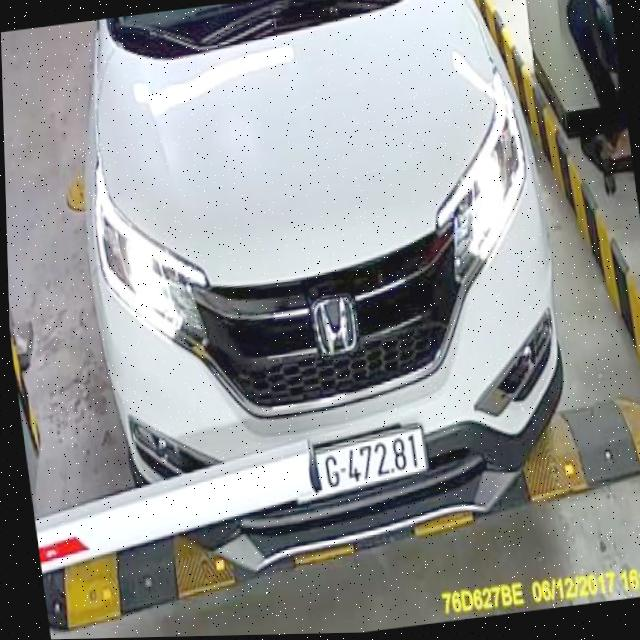car: (50, 0, 603, 592)
plate: (283, 424, 438, 504)
